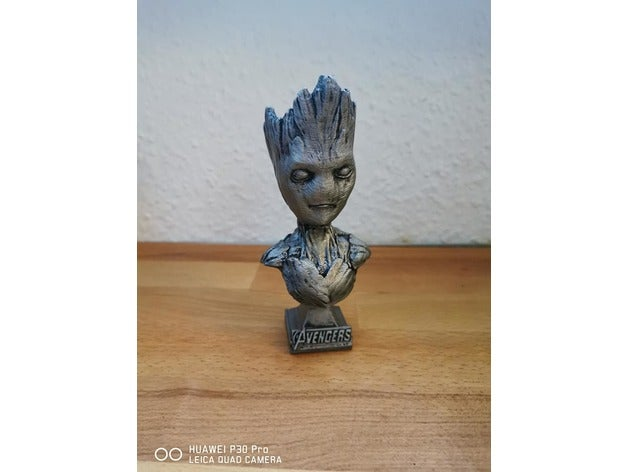Good: (252, 63, 389, 368)
